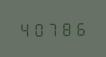eight: (60, 19, 73, 36)
four: (18, 20, 31, 37)
seven: (46, 20, 59, 36)
six: (74, 19, 87, 36)
zero: (32, 20, 45, 37)
